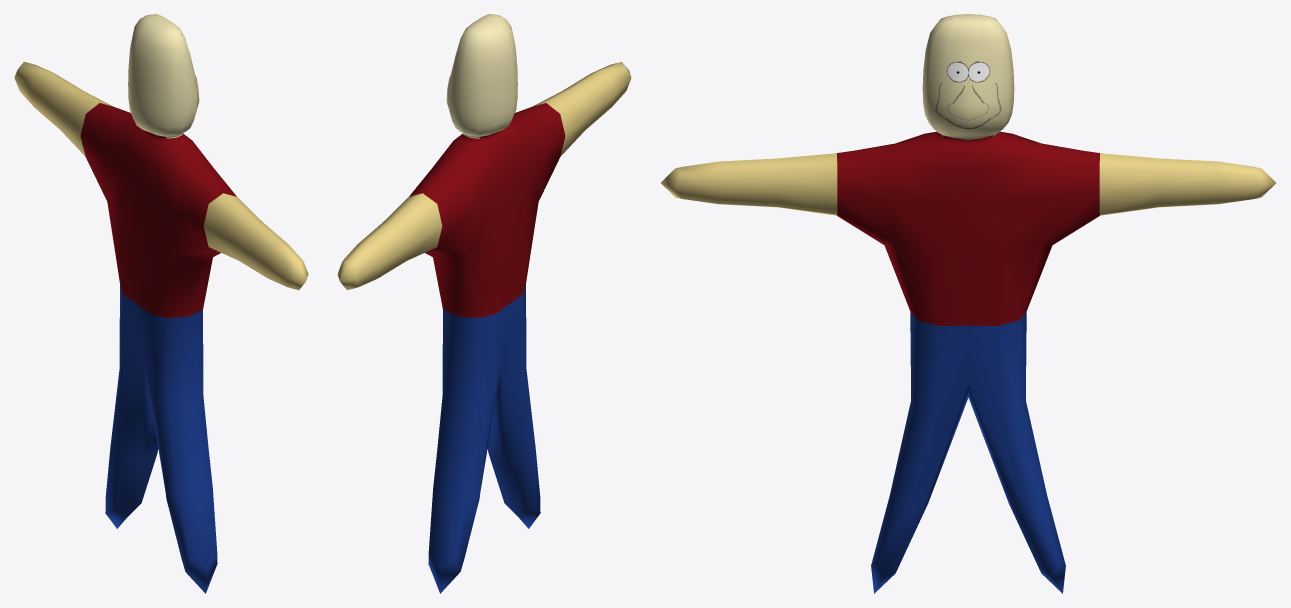
Rendered from посетитель1.fbx.
The picture shows the model from 3 angles, left to right: view 1: azimuth 30°, elevation 25°; view 2: azimuth 150°, elevation 25°; view 3: azimuth 270°, elevation 25°; orthographic projection. The views are drawn at different scales.
Parts seen in each view (by area): view 1: Cube; view 2: Cube; view 3: Cube.
Boxes of the visible parts, x1=… form: Cube: x1=14, y1=14, x2=308, y2=593; Cube: x1=337, y1=14, x2=631, y2=593; Cube: x1=661, y1=14, x2=1275, y2=593.
Size of the model in its own units: 111 by 877 by 849.
4 materials, 1 textured.
